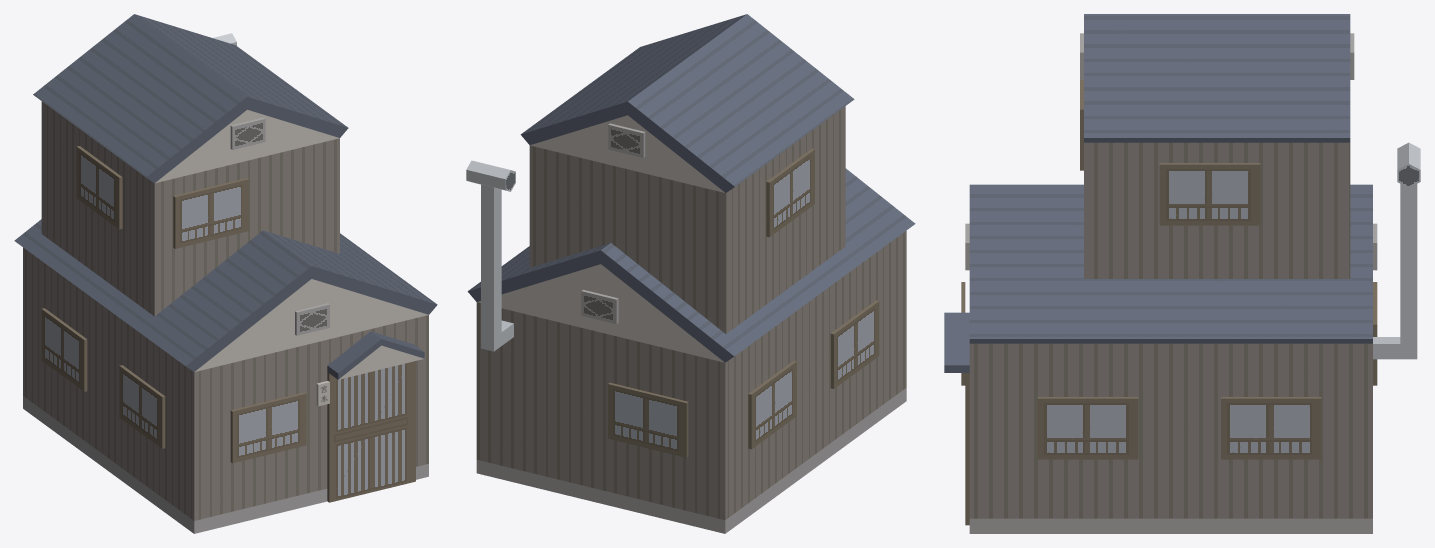
File: 00fe_Wada_Residence.glb
The picture shows the model from 3 angles, left to right: view 1: azimuth 30°, elevation 25°; view 2: azimuth 150°, elevation 25°; view 3: azimuth 270°, elevation 25°; orthographic projection. The views are drawn at different scales.
Visible parts, largest first — view 1: part_0; view 2: part_0; view 3: part_0.
Boxes of the visible parts, x1,y1,x2,y2 form: part_0: (14, 14, 437, 533); part_0: (466, 14, 915, 533); part_0: (944, 14, 1420, 533).
Bounding box in the file's own units: 4.08 × 5.82 × 5.67.
1 material, 1 textured.
